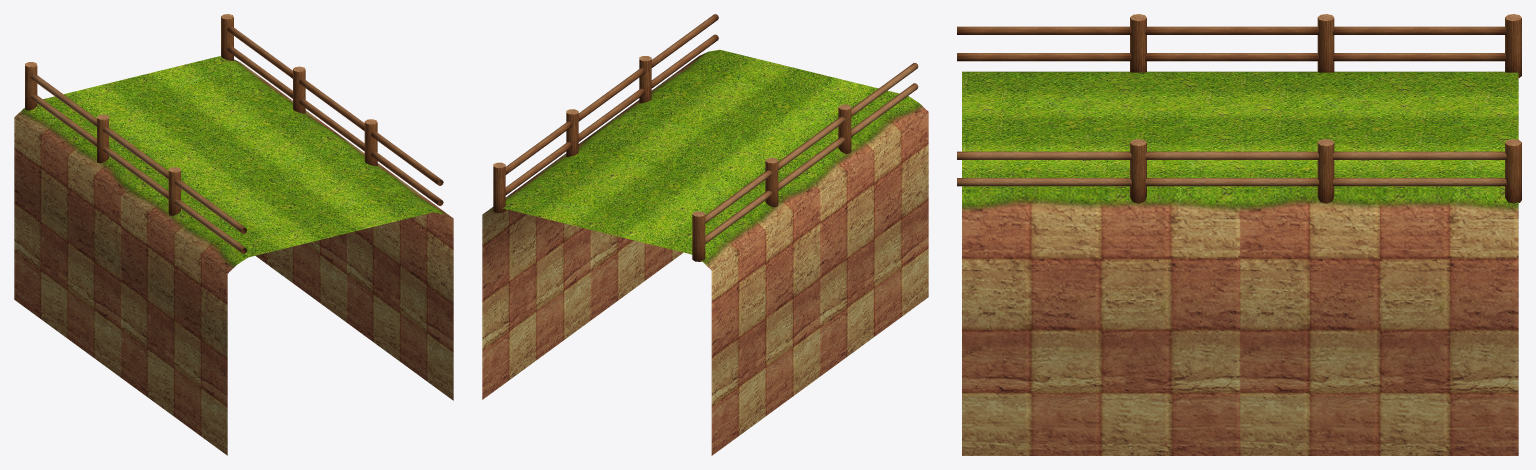
The model's file is Ground01.FBX.
3 renders of one model, left to right at view 1: azimuth 30°, elevation 25°; view 2: azimuth 150°, elevation 25°; view 3: azimuth 270°, elevation 25°, orthographic. The views are drawn at different scales.
Parts seen in each view (by area): view 1: Ground, Fence; view 2: Ground, Fence; view 3: Ground, Fence.
Part boxes in pixels (left/top/right/bottom): Ground: left=14, top=56, right=453, bottom=455; Fence: left=25, top=14, right=443, bottom=253; Ground: left=482, top=49, right=928, bottom=455; Fence: left=493, top=14, right=918, bottom=261; Ground: left=962, top=71, right=1518, bottom=455; Fence: left=957, top=14, right=1521, bottom=203.
Size of the model in its own units: 4.65 by 4.59 by 7.73.
